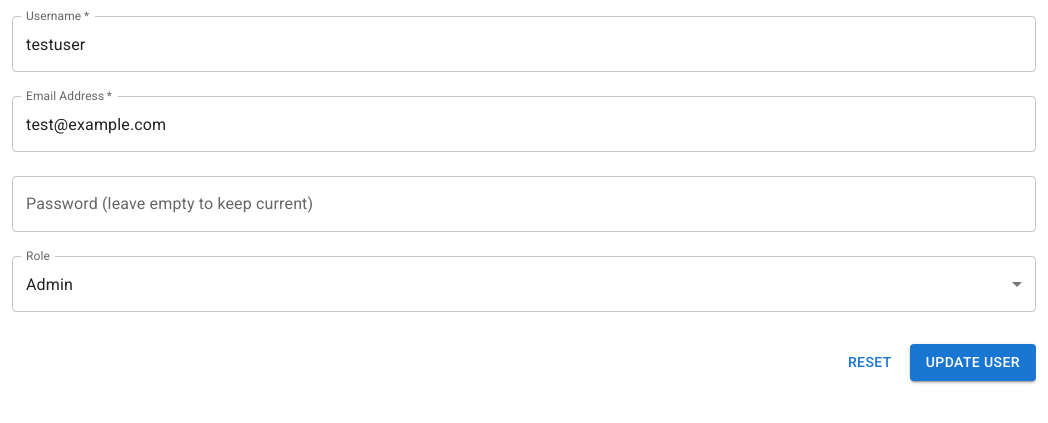
Scenario: UserForm Component › validates password length in edit mode when provided
Note: Fill in a short password
In the password field labelled "Password (leave empty to keep current)": (524, 204) [12, 176, 1036, 232], type "short"
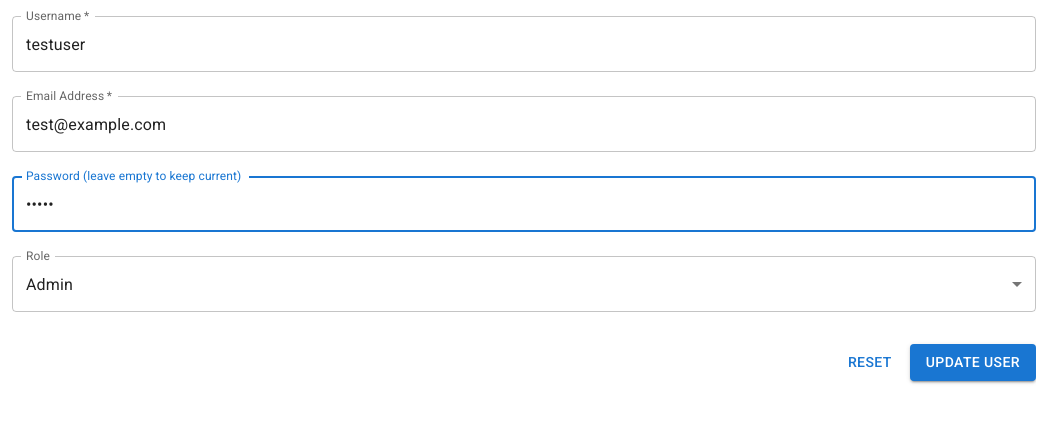
Note: Submit the form
Click the button "Update User": (973, 362) [910, 344, 1036, 380]
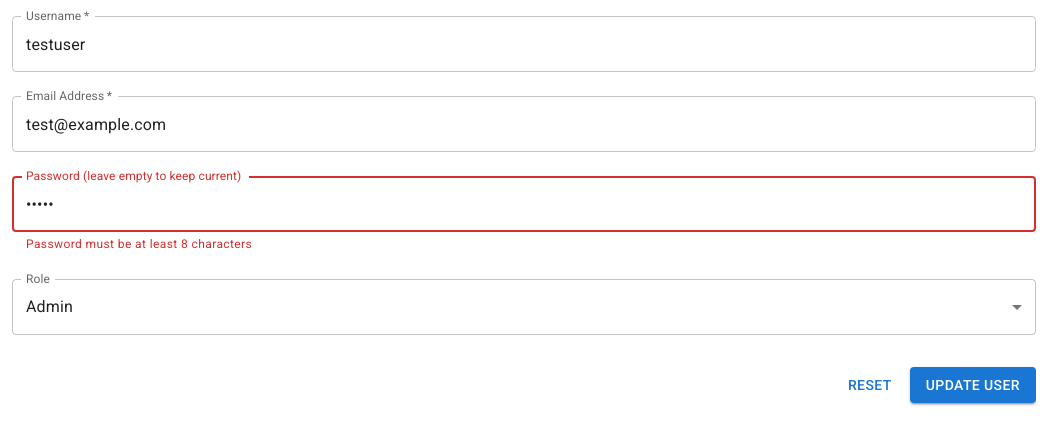
Check: the text "Password must be at least 8 characters" is shown, box [26, 237, 252, 251]
